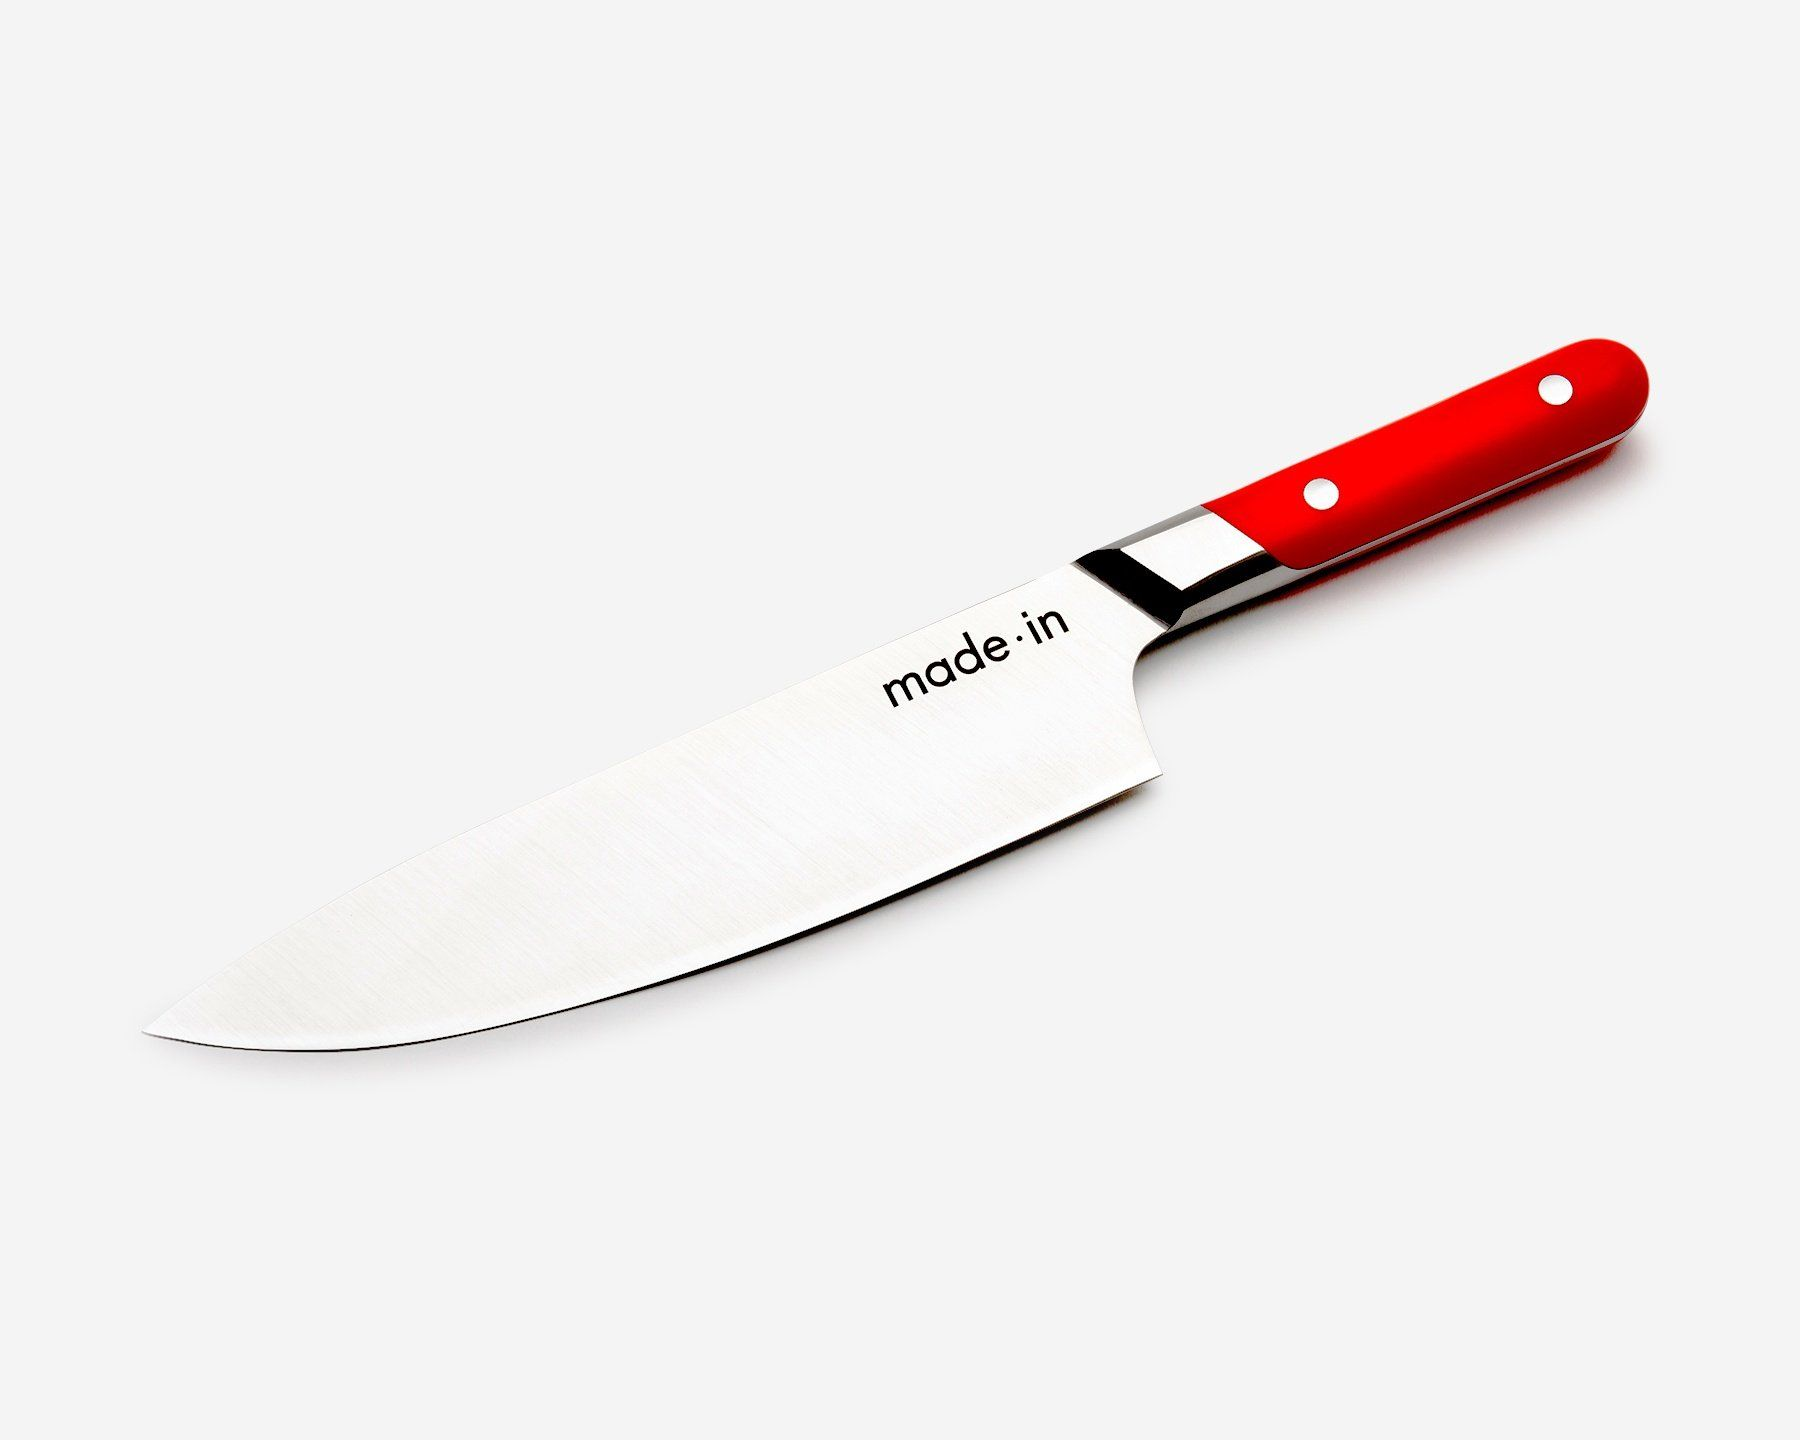knife: (32, 278, 1682, 1084)
